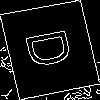D: (25, 25, 83, 71)
